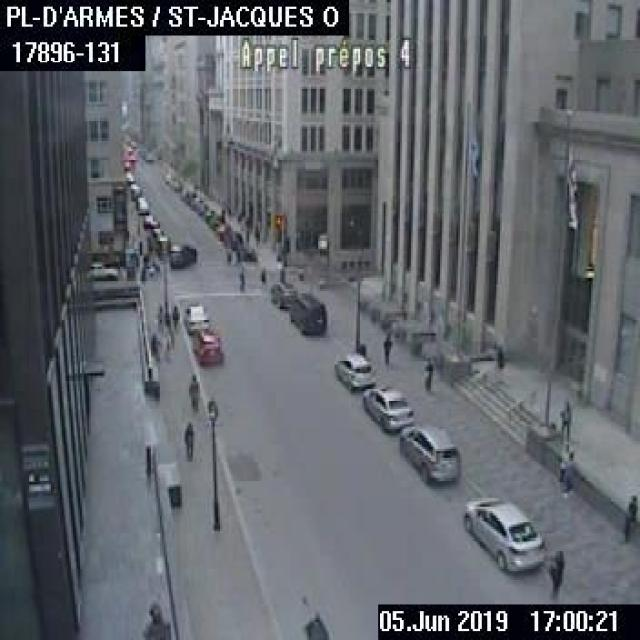pedestrian: (547, 546, 564, 596), (558, 451, 576, 496), (622, 493, 638, 538), (558, 398, 571, 436), (187, 372, 198, 411), (422, 355, 434, 389), (182, 421, 192, 460), (147, 332, 160, 362), (493, 340, 505, 369), (382, 331, 391, 362), (171, 303, 178, 331), (237, 264, 244, 291), (258, 262, 265, 287), (156, 304, 162, 328)
vehicle: (461, 496, 546, 574), (400, 424, 460, 482), (361, 385, 412, 429), (288, 292, 326, 334), (332, 351, 375, 386), (191, 327, 222, 362), (183, 300, 207, 332), (269, 280, 296, 307), (167, 243, 195, 266), (87, 260, 116, 278), (222, 229, 241, 247), (134, 194, 148, 212), (215, 222, 230, 237), (142, 214, 158, 226), (208, 213, 220, 228), (129, 184, 141, 198), (195, 200, 208, 212), (190, 196, 202, 208), (204, 209, 216, 219)
